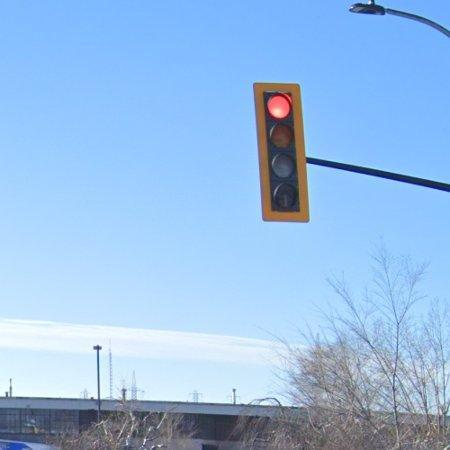traffic lights: (252, 82, 310, 222)
